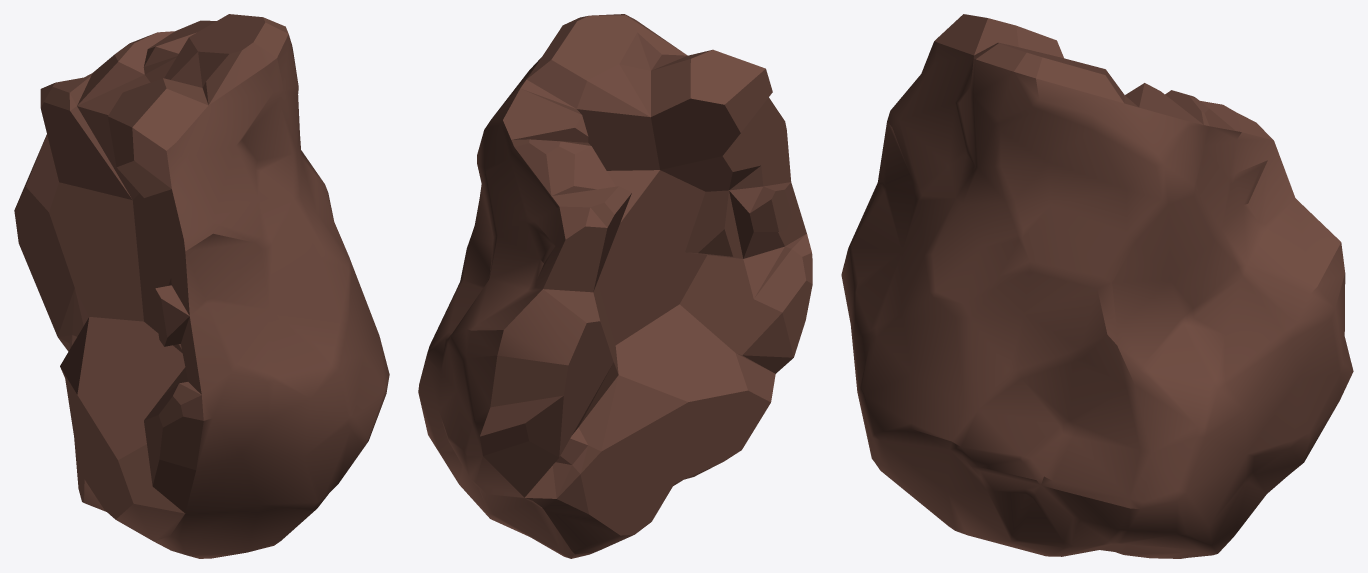
Rendered from p_mesh_hvs_stalagmite_large_destruction_part05.fbx.
3 renders of one model, left to right at view 1: azimuth 30°, elevation 25°; view 2: azimuth 150°, elevation 25°; view 3: azimuth 270°, elevation 25°, orthographic. The views are drawn at different scales.
Parts seen in each view (by area): view 1: p_large_part5; view 2: p_large_part5; view 3: p_large_part5.
Boxes of the visible parts, box(x1,y1,x2,y2) form: p_large_part5: box(14, 14, 389, 558); p_large_part5: box(418, 14, 812, 558); p_large_part5: box(841, 14, 1353, 558).
Size of the model in its own units: 6.23 by 10.68 by 9.32.
